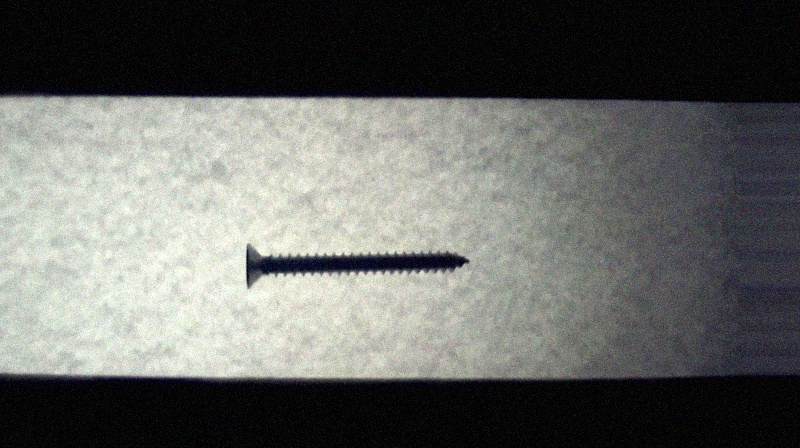S002: (243, 241, 472, 293)
